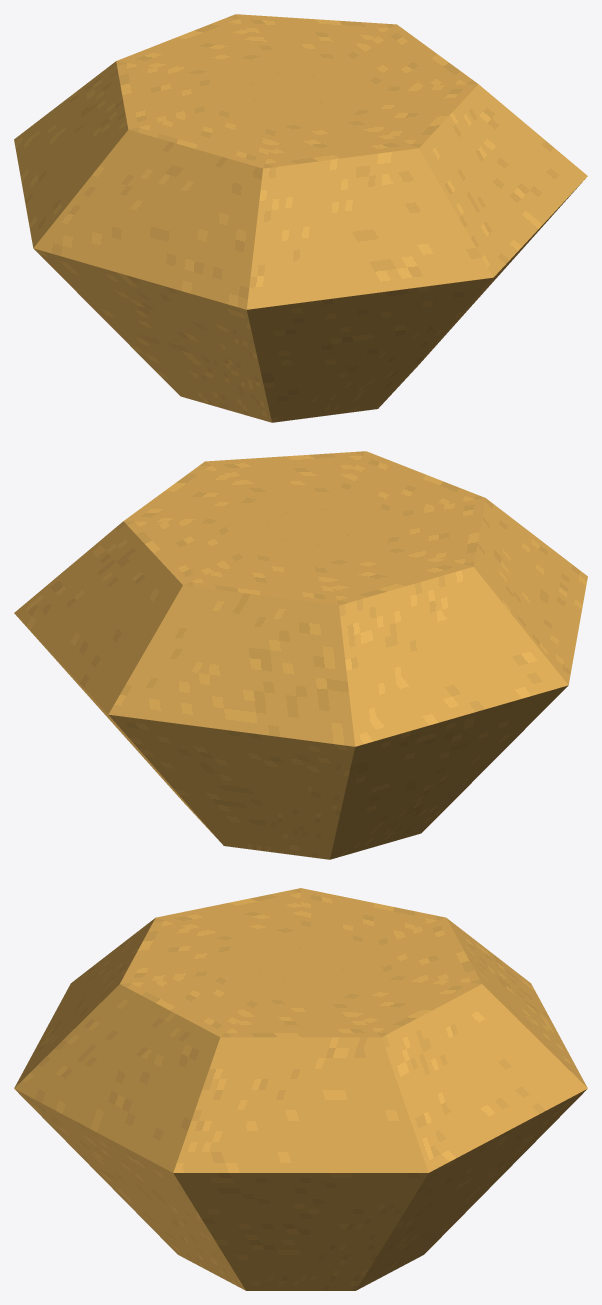
Rendered from citrine.glb.
3 views of the same model, one above another, from view 1: azimuth 30°, elevation 25°; view 2: azimuth 150°, elevation 25°; view 3: azimuth 270°, elevation 25° (orthographic).
Visible parts, largest first — view 1: block_faceted crown, block_faceted lower stone; view 2: block_faceted crown, block_faceted lower stone; view 3: block_faceted crown, block_faceted lower stone.
Part boxes in pixels (x1,y1,x2,y2): block_faceted crown: (14, 14, 587, 309); block_faceted lower stone: (33, 179, 584, 422); block_faceted crown: (14, 451, 587, 746); block_faceted lower stone: (17, 616, 568, 859); block_faceted crown: (14, 888, 587, 1172); block_faceted lower stone: (15, 1089, 586, 1290).
Size of the model in its own units: 0.0333 by 0.0181 by 0.0342.
1 material, 1 textured.
